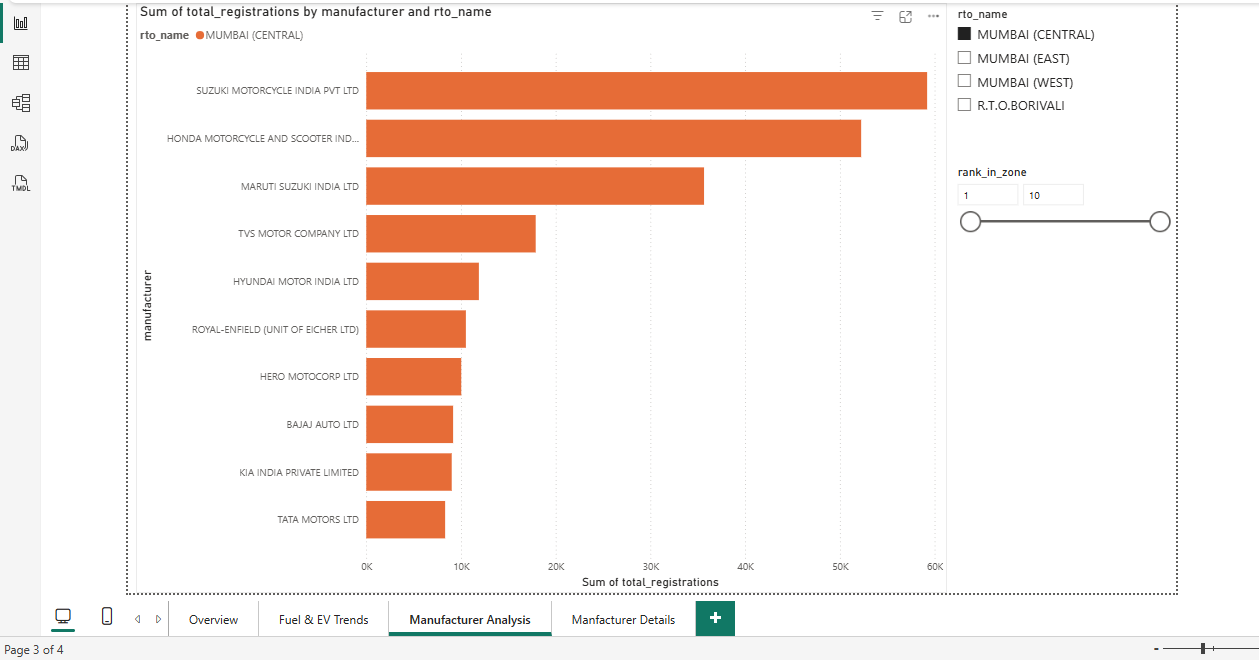

The page's visual inventory and layout, read from the dashboard file:
{"tool":"powerbi","page":{"name":"Manufacturer Analysis","canvas":[1280,720],"ordinal":2},"visuals":[{"type":"clusteredBarChart","fields":{"Y":["Sum(manufacturing_registrations.total_registrations)"],"Series":["manufacturing_registrations.rto_name"],"Category":["manufacturing_registrations.manufacturer"]},"box":[9.6,0,989.6,719.8],"z":0},{"type":"slicer","fields":{"Values":["manufacturing_registrations.rto_name"]},"box":[999.2,0,280.8,279.4],"z":1000},{"type":"slicer","fields":{"Values":["manufacturing_registrations.rank_in_zone"]},"box":[999.2,192.7,280.8,150],"z":2000}]}

Visuals, with their boxes on the page's 1280x720 design canvas (x1, y1, x2, y2). These are canvas units, not pixel positions in the 1259x660 screenshot, which may show the page scaled, cropped or inside an application window:
clusteredBarChart - Sum(manufacturing_registrations.total_registrations) x manufacturing_registrations.rto_name: box=[10, 0, 999, 720]
slicer - manufacturing_registrations.rto_name: box=[999, 0, 1280, 279]
slicer - manufacturing_registrations.rank_in_zone: box=[999, 193, 1280, 343]
